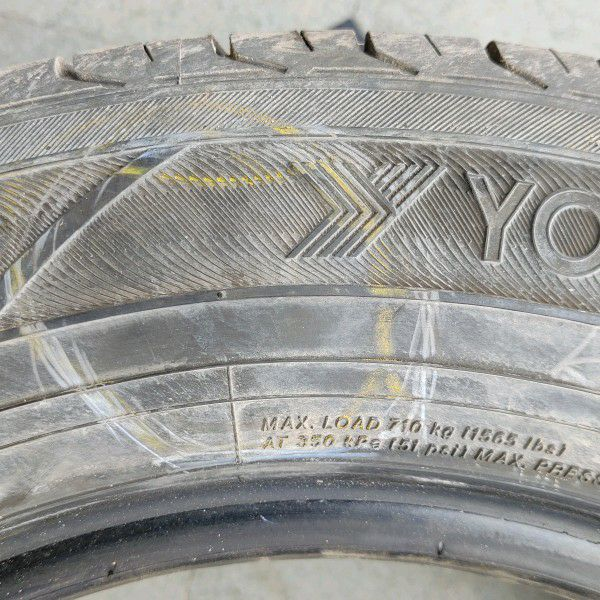CBU: (120, 188, 344, 397)
